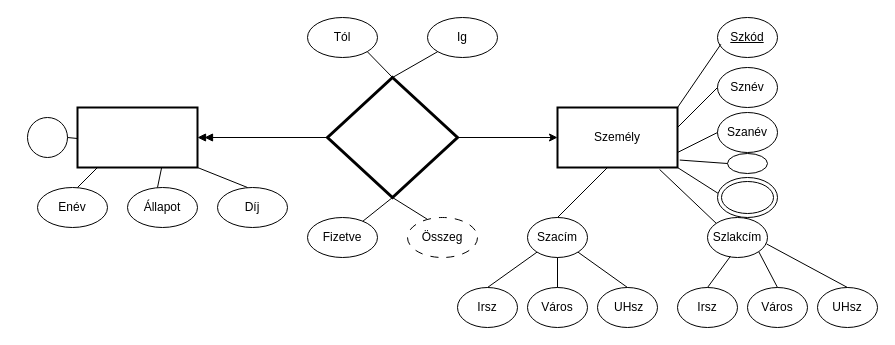
The diagram is 895 pixels wide and 345 high, and some of its shapes have lost their labels. Each missing label, with the centre of its shape:
"Eid" belongs at (x=47, y=137).
"email" belongs at (x=747, y=163).
"Eszköz" belongs at (x=137, y=137).
"kölcsönző" belongs at (x=392, y=137).
"Tszám" belongs at (x=747, y=197).
